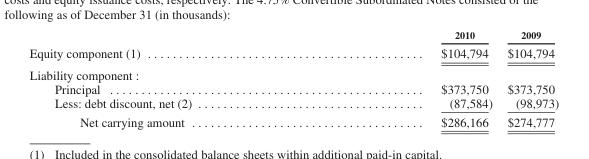table: (28, 29, 558, 128)
table column: (28, 29, 315, 128), (315, 29, 499, 128), (499, 29, 558, 128)
table column header: (28, 29, 558, 43)
table projected row header: (28, 63, 558, 81)
table row: (28, 43, 558, 63), (28, 63, 558, 81), (28, 111, 558, 128), (28, 95, 558, 111), (28, 29, 558, 43), (28, 81, 558, 95)
